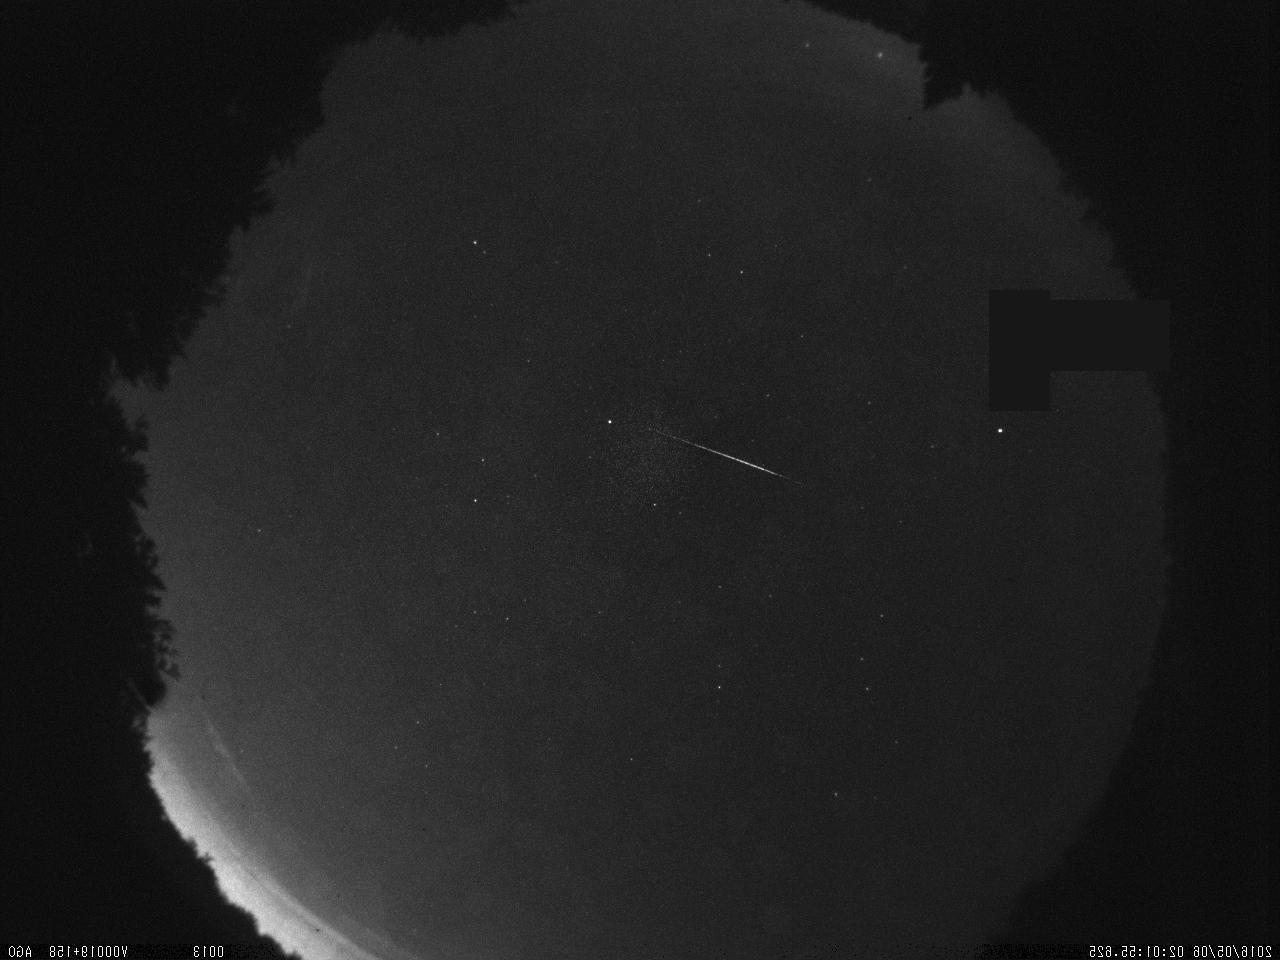meteor: (625, 414, 801, 489)
